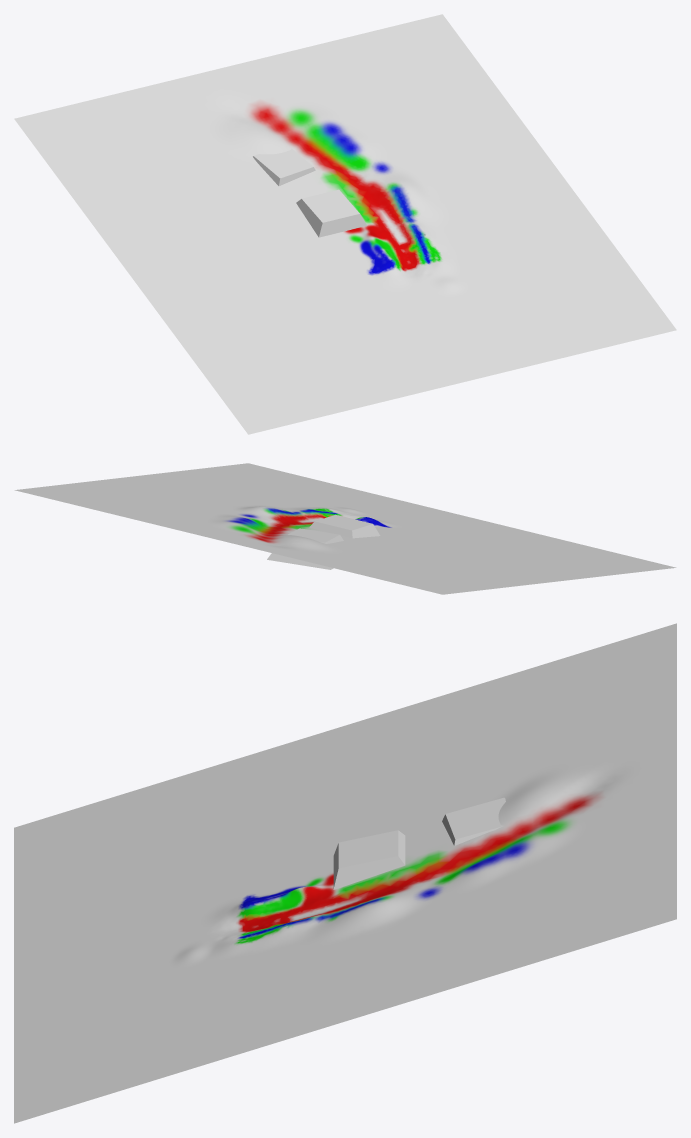
File: Ground.glb
3 views of the same model, one above another, from view 1: azimuth 30°, elevation 25°; view 2: azimuth 150°, elevation 25°; view 3: azimuth 270°, elevation 25° (orthographic). The views are drawn at different scales.
Parts seen in each view (by area): view 1: ground, Cube.004, Cube.006; view 2: ground, Cube.004, Cube.006; view 3: ground, Cube.004, Cube.006.
Boxes of the visible parts, x1=… form: ground: x1=14, y1=14, x2=676, y2=434; Cube.004: x1=296, y1=189, x2=367, y2=237; Cube.006: x1=253, y1=148, x2=315, y2=185; ground: x1=14, y1=463, x2=676, y2=594; Cube.004: x1=309, y1=514, x2=380, y2=538; Cube.006: x1=267, y1=528, x2=343, y2=569; ground: x1=14, y1=623, x2=676, y2=1123; Cube.004: x1=333, y1=830, x2=405, y2=889; Cube.006: x1=442, y1=797, x2=505, y2=845.
Bounding box in the file's own units: 67.85 × 21.86 × 64.24.
